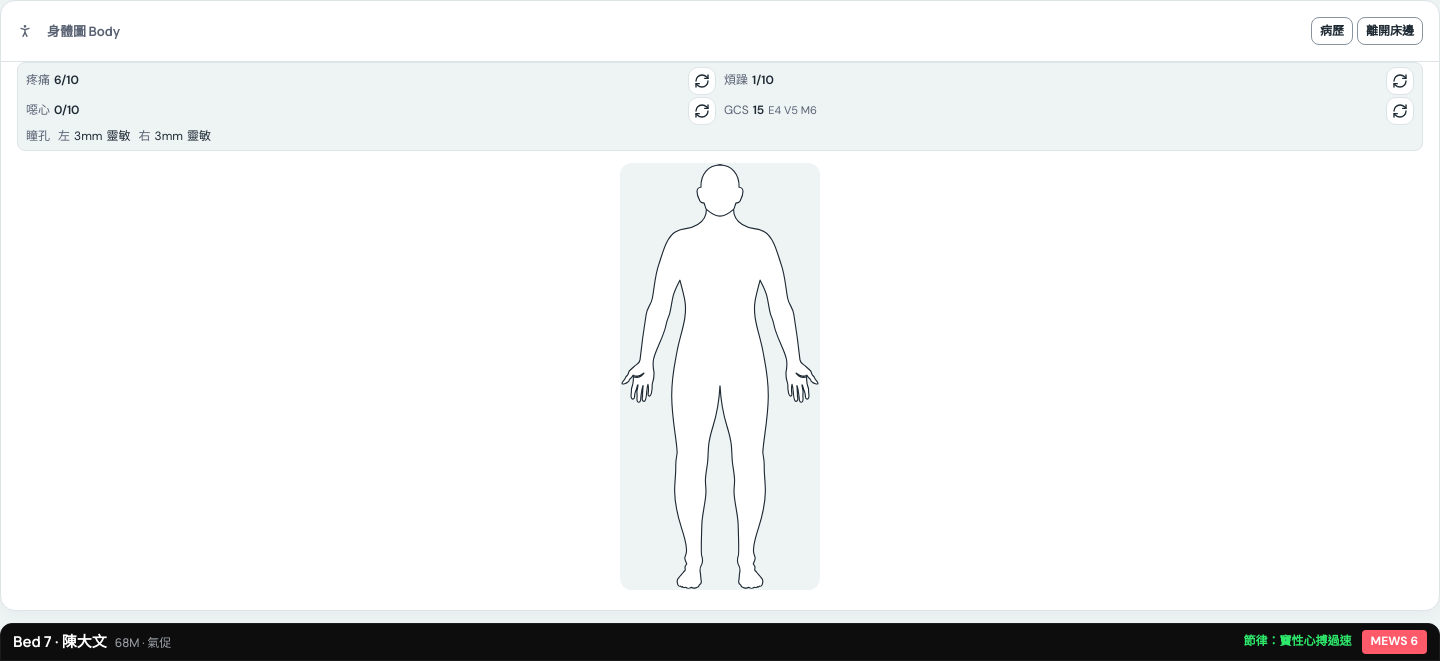
Test case: 房間取代平面圖 › 未有藥物醫囑時仍然顯示 MAR 表頭
Click the button with test id "open-medical-record" at point(1332, 31), box [1311,17,1353,45]
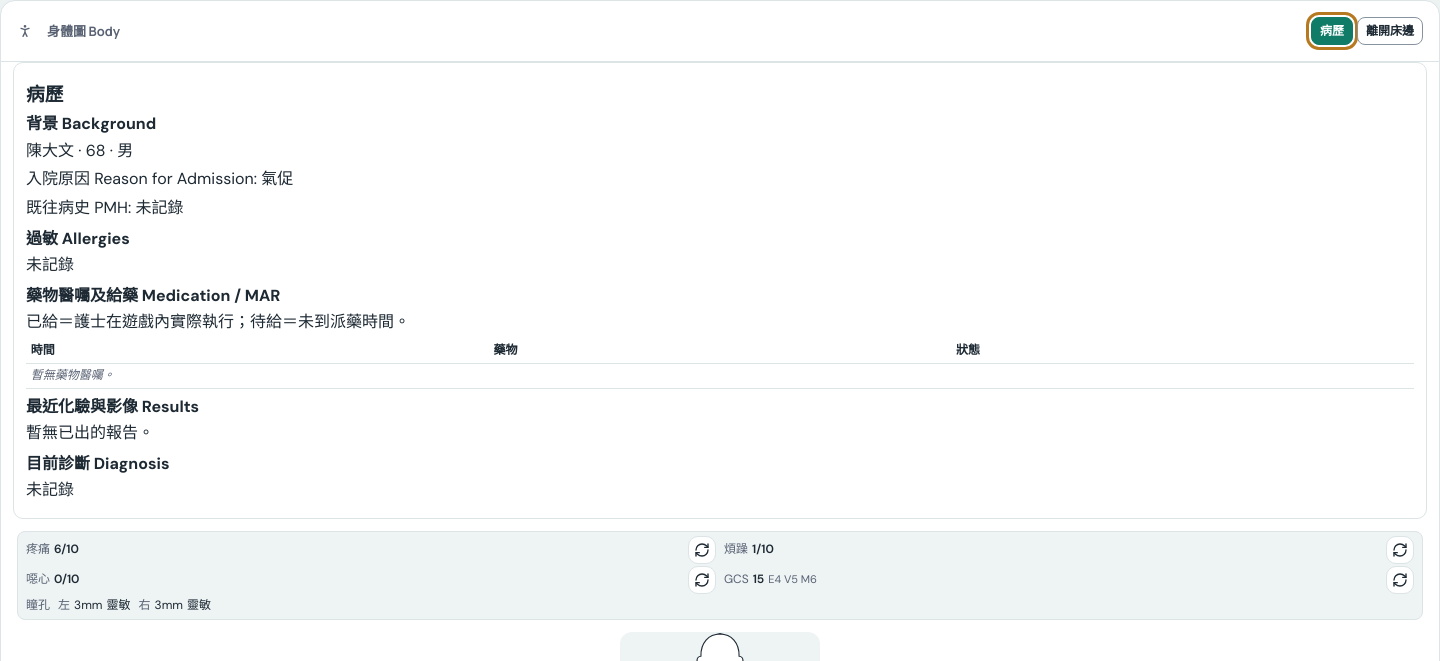
Now the table shows "時間", box [31,342,55,358]
Now the table shows "藥物", box [494,342,518,358]
Now the table shows "狀態", box [956,342,980,358]
